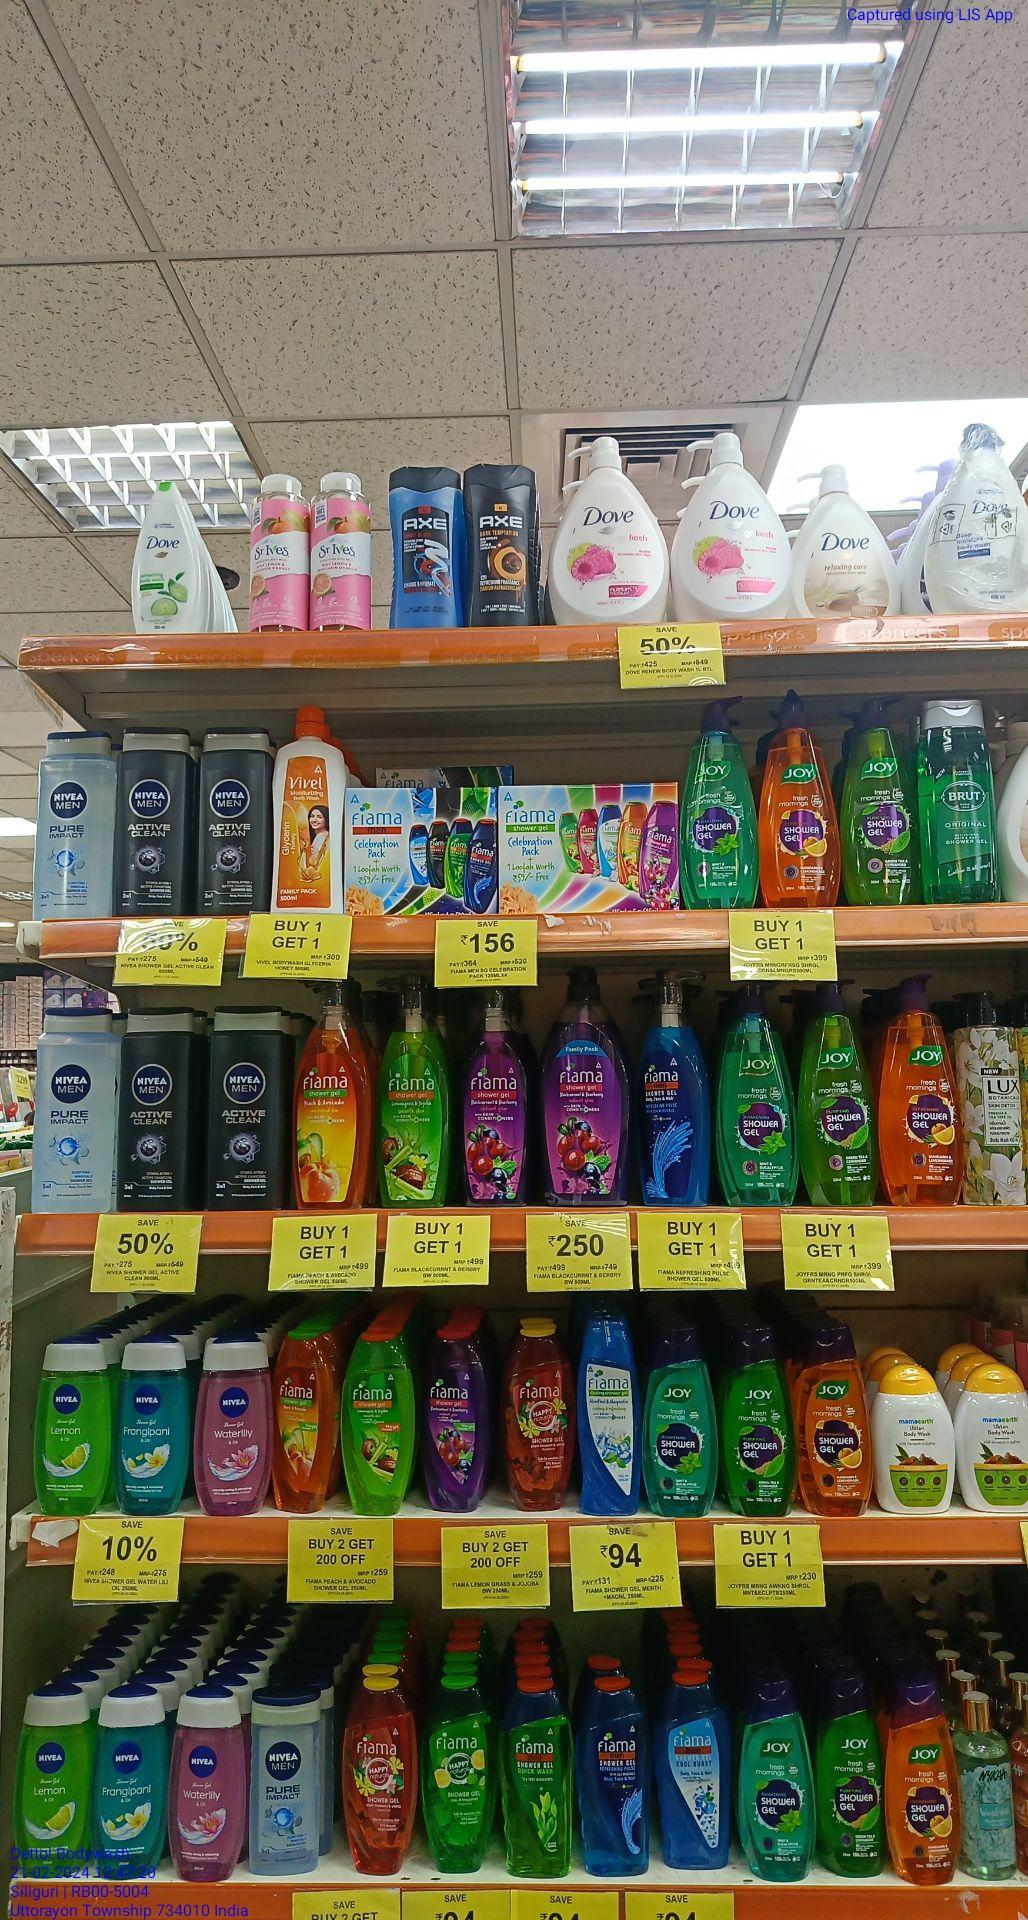Dove_Refreshing_Body_Wash_250ML: (129, 477, 198, 632)
Fiama_Shower_Gel_Lemongrass_and_Jojoba_250ML: (339, 1331, 412, 1516)
Fiama_Shower_Gel_Peach_and_Avocado_250ML: (274, 1328, 339, 1516)
Joy_Shower_Gel_Mandarin_and_Lemongrass_250ML: (883, 1677, 958, 1886), (797, 1323, 869, 1516)
Joy_Shower_Gel_Mint_and_Eucalyptus_250ML: (736, 1674, 814, 1882), (637, 1326, 718, 1516)
Nivea_Shower_Gel_Frangipani_and_Oil_250ML: (90, 1684, 168, 1879), (112, 1333, 193, 1515)
Nivea_Shower_Gel_Lemon_and_Oil_250ML: (11, 1683, 93, 1876), (32, 1336, 112, 1514)
Nivea_Shower_Gel_Waterlily_and_Oil_250ML: (165, 1685, 247, 1879), (190, 1337, 274, 1514)
